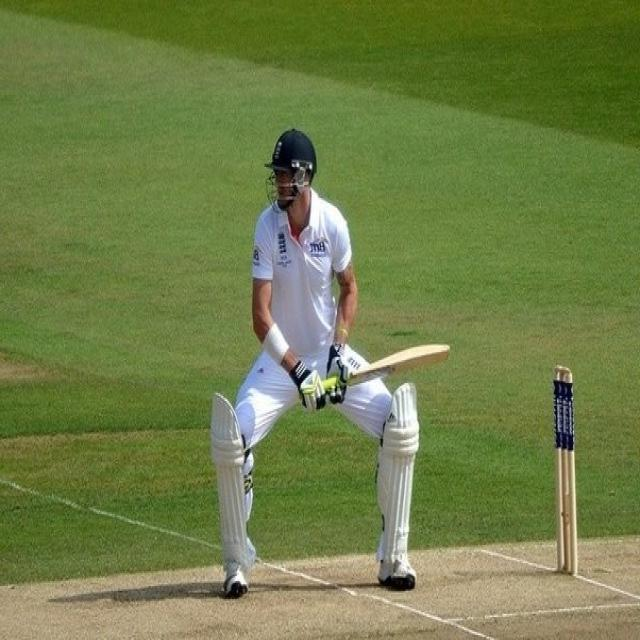stump: (552, 365, 580, 580)
